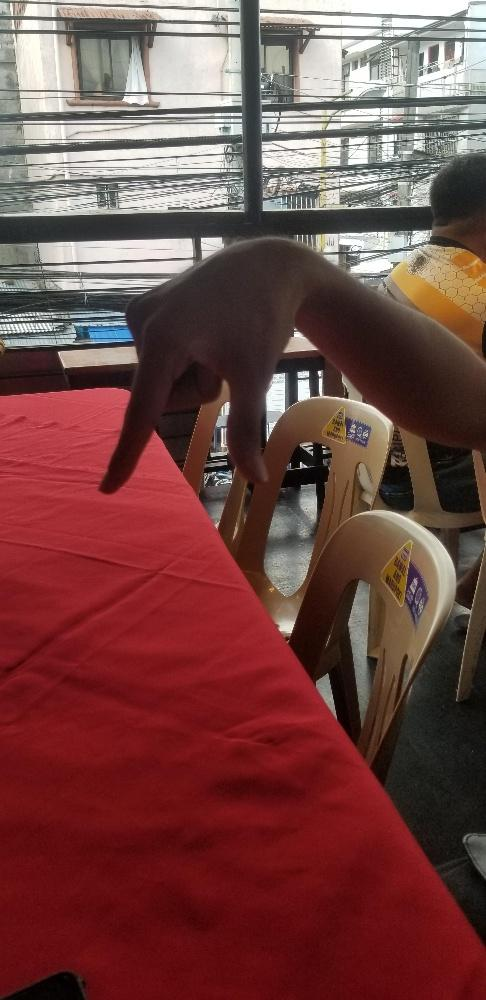q: (93, 229, 306, 497)
